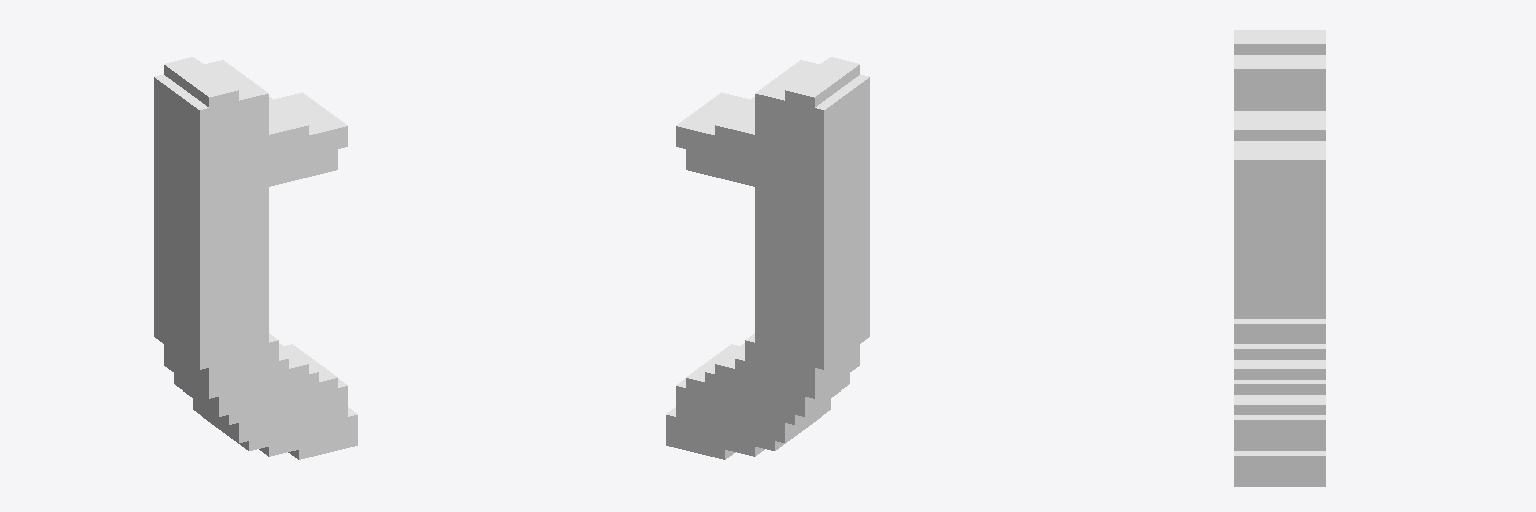
File: LetterT.obj
The picture shows the model from 3 angles: view 1: azimuth 30°, elevation 25°; view 2: azimuth 150°, elevation 25°; view 3: azimuth 270°, elevation 25°; orthographic projection.
Parts seen in each view (by area): view 1: object 1; view 2: object 1; view 3: object 1.
Part boxes in pixels (left/top/right/bottom): object 1: left=154, top=57, right=357, bottom=459; object 1: left=666, top=57, right=869, bottom=459; object 1: left=1234, top=30, right=1325, bottom=486.
Bounding box in the file's own units: 1.6 × 3.7 × 0.8.